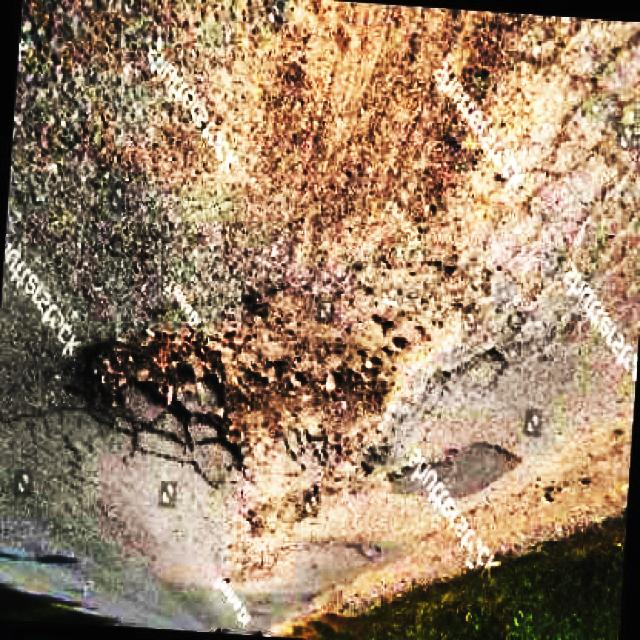pothole: (60, 280, 469, 486)
